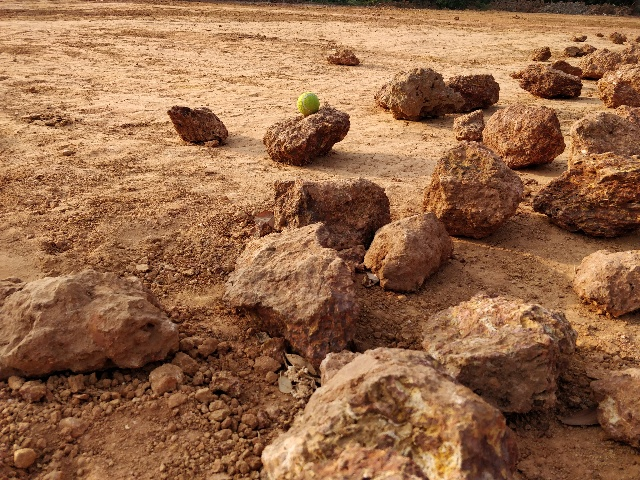ball: (295, 90, 322, 117)
